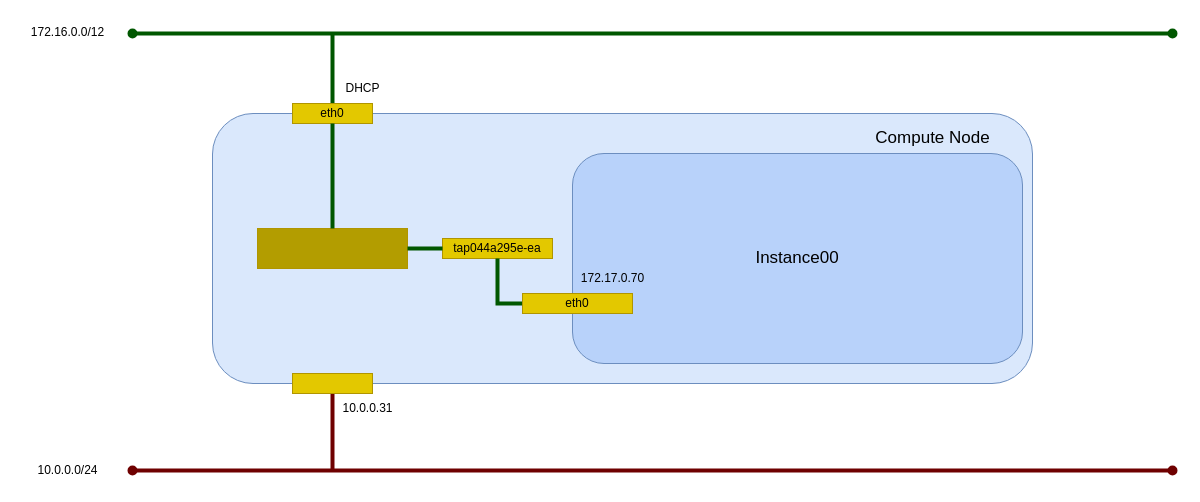
Some shapes in this 1200 by 502 pixel diagram are drawn without their labels. Each missing label, with the centre of its shape:
brqca4e2bc3-fe: the point at 332,248
eth1: the point at 332,383
